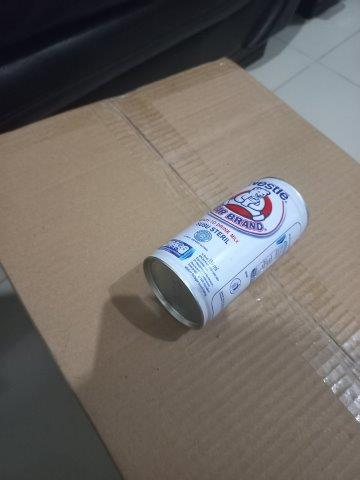kaleng: (143, 176, 309, 333)
kardus: (1, 57, 360, 480)
